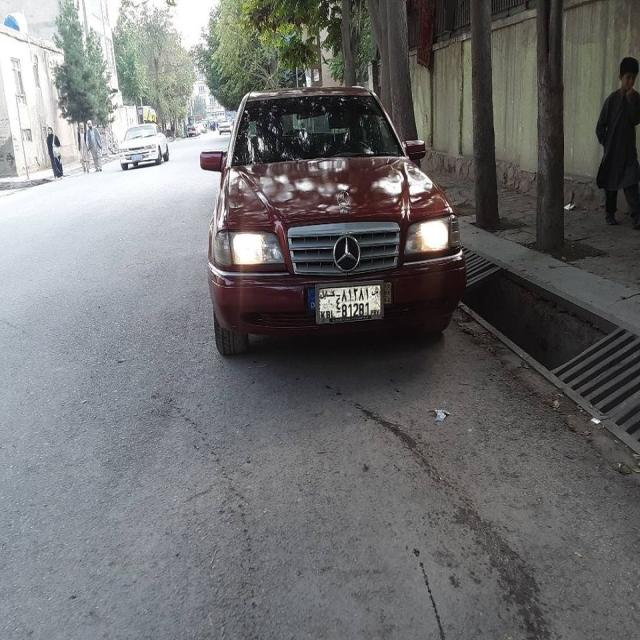Plate: (316, 282, 384, 324)
